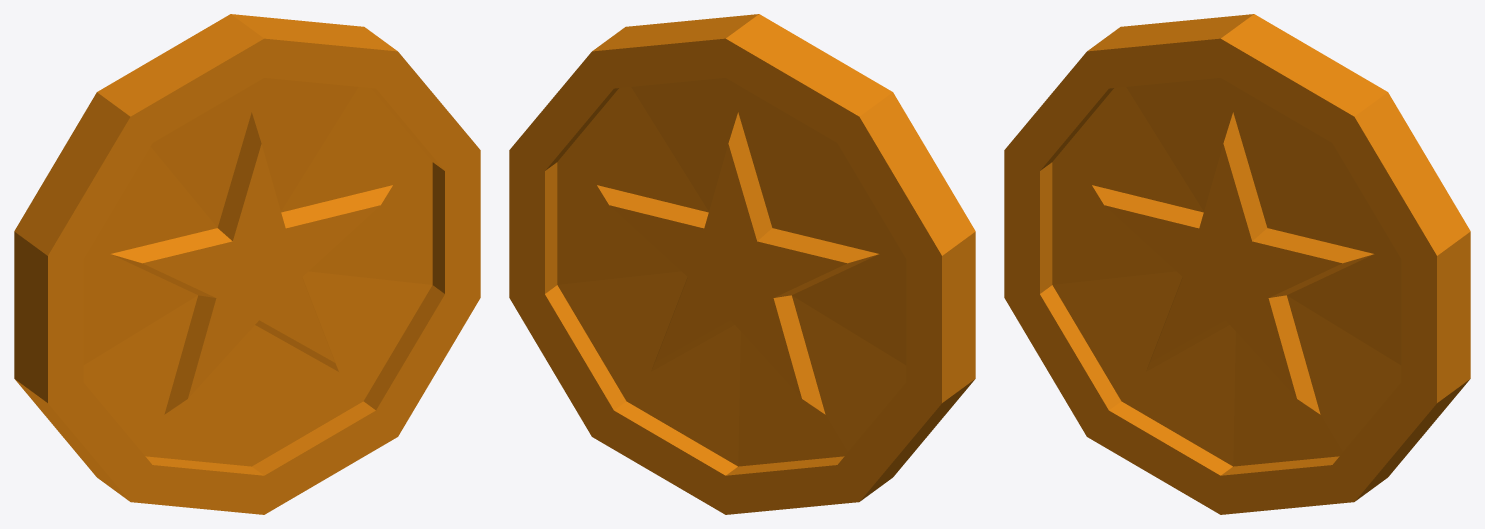
File: coin.fbx
The picture shows the model from 3 angles, left to right: view 1: azimuth 30°, elevation 25°; view 2: azimuth 150°, elevation 25°; view 3: azimuth 330°, elevation 25°; orthographic projection.
Parts seen in each view (by area): view 1: Circle; view 2: Circle; view 3: Circle.
Boxes of the visible parts, left/top/right/bottom form: Circle: left=14, top=14, right=480, bottom=514; Circle: left=509, top=14, right=975, bottom=514; Circle: left=1004, top=14, right=1470, bottom=514.
Bounding box in the file's own units: 190 × 200 × 25.6.
